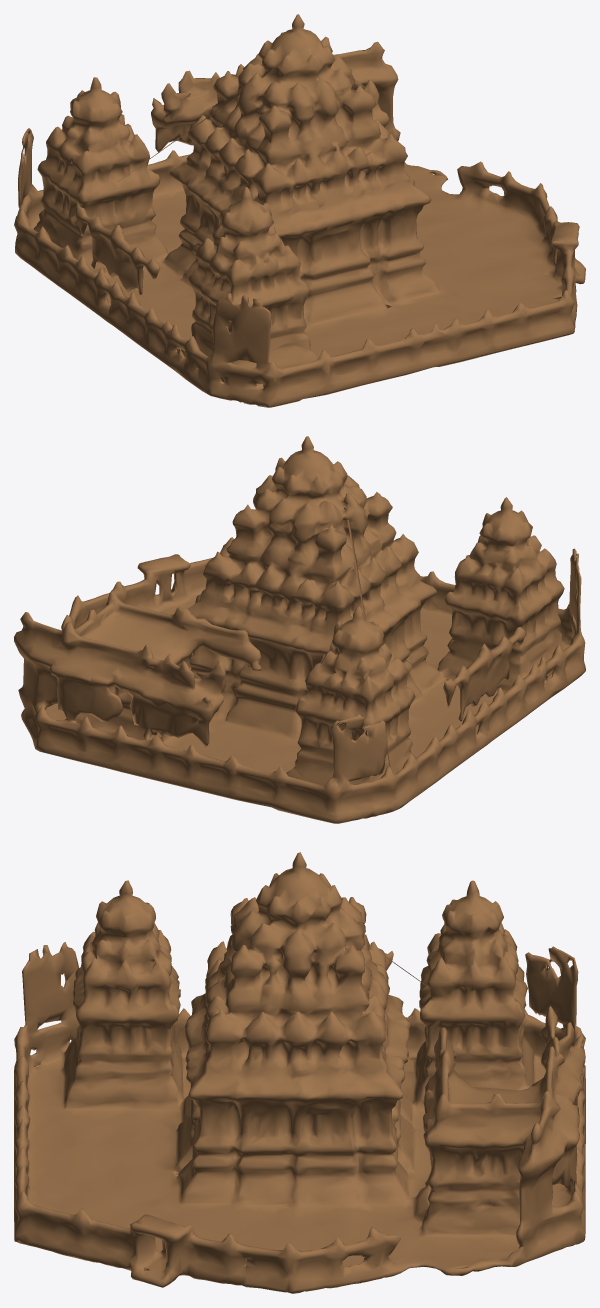
File: Hazara Rama Temple.glb
3 views of the same model, one above another, from view 1: azimuth 30°, elevation 25°; view 2: azimuth 150°, elevation 25°; view 3: azimuth 270°, elevation 25° (orthographic). The views are drawn at different scales.
Parts seen in each view (by area): view 1: tmpwc1r9yxu.ply; view 2: tmpwc1r9yxu.ply; view 3: tmpwc1r9yxu.ply.
Part boxes in pixels (x1,y1,x2,y2): tmpwc1r9yxu.ply: [14, 14, 585, 407]; tmpwc1r9yxu.ply: [14, 436, 585, 823]; tmpwc1r9yxu.ply: [14, 852, 585, 1293].
Size of the model in its own units: 1.95 by 1.16 by 1.96.
